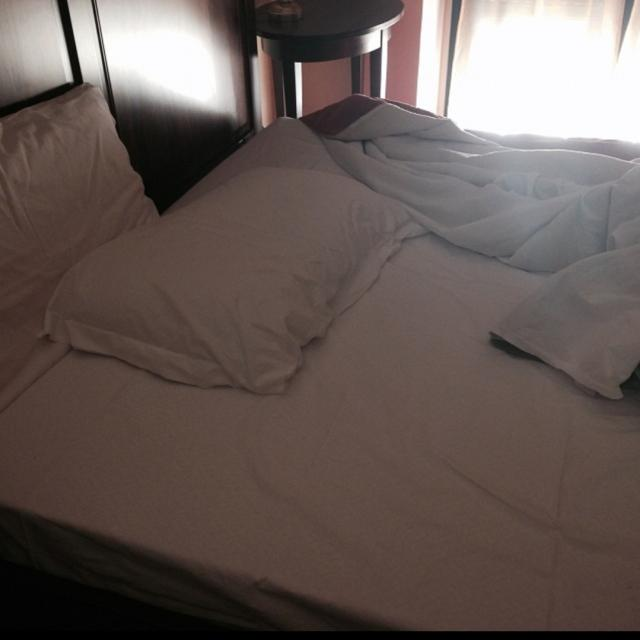bed: (0, 72, 640, 613)
